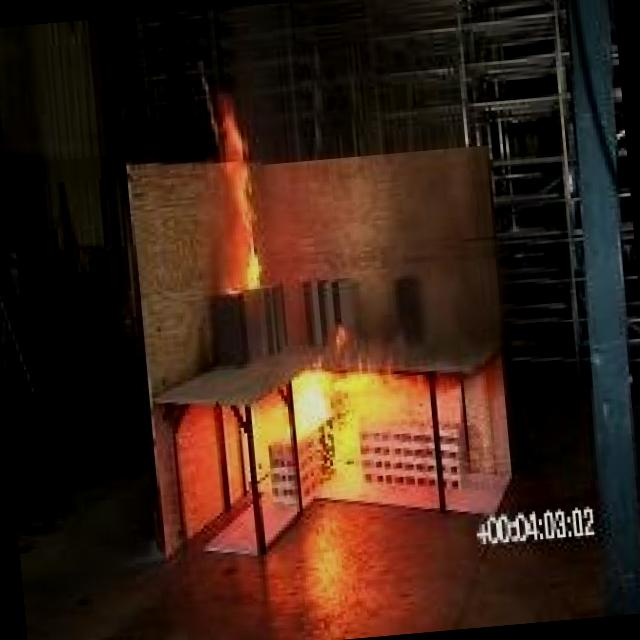fire: (182, 83, 328, 330), (270, 337, 402, 490)
